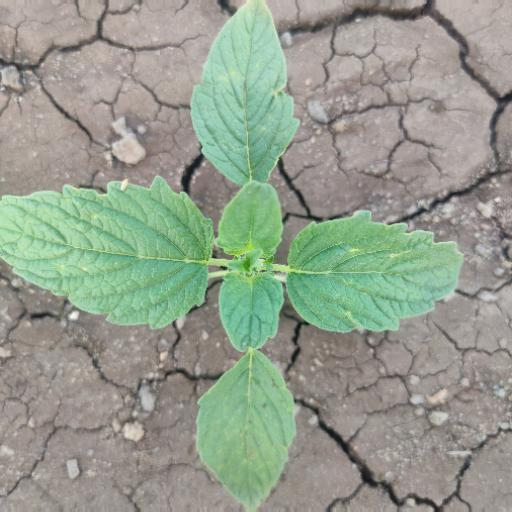crop: (3, 2, 465, 511)
